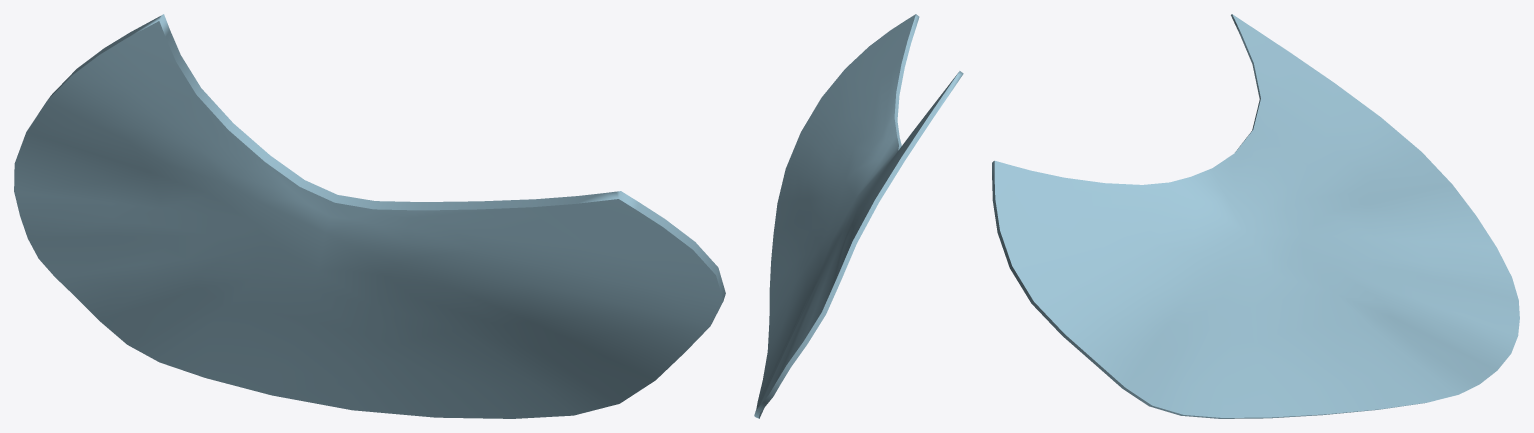
The model's file is articulacoes-obturator-membrane-r.glb.
3 views of the same model, side by side, from view 1: azimuth 30°, elevation 25°; view 2: azimuth 150°, elevation 25°; view 3: azimuth 270°, elevation 25° (orthographic). The views are drawn at different scales.
Visible parts, largest first — view 1: Obturator membrane.r; view 2: Obturator membrane.r; view 3: Obturator membrane.r.
Boxes of the visible parts, x1,y1,x2,y2 form: Obturator membrane.r: (14,14,725,418); Obturator membrane.r: (754,14,963,418); Obturator membrane.r: (992,14,1519,418).
Bounding box in the file's own units: 0.028 × 0.0332 × 0.0483.
